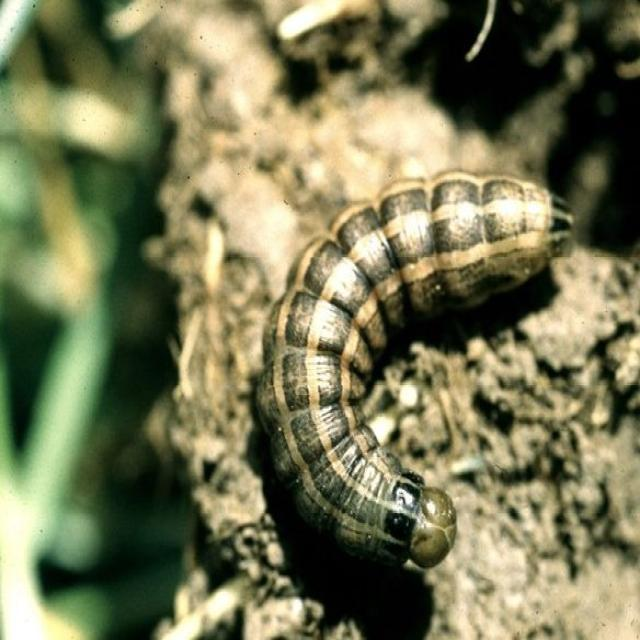worm: (253, 166, 576, 572)
